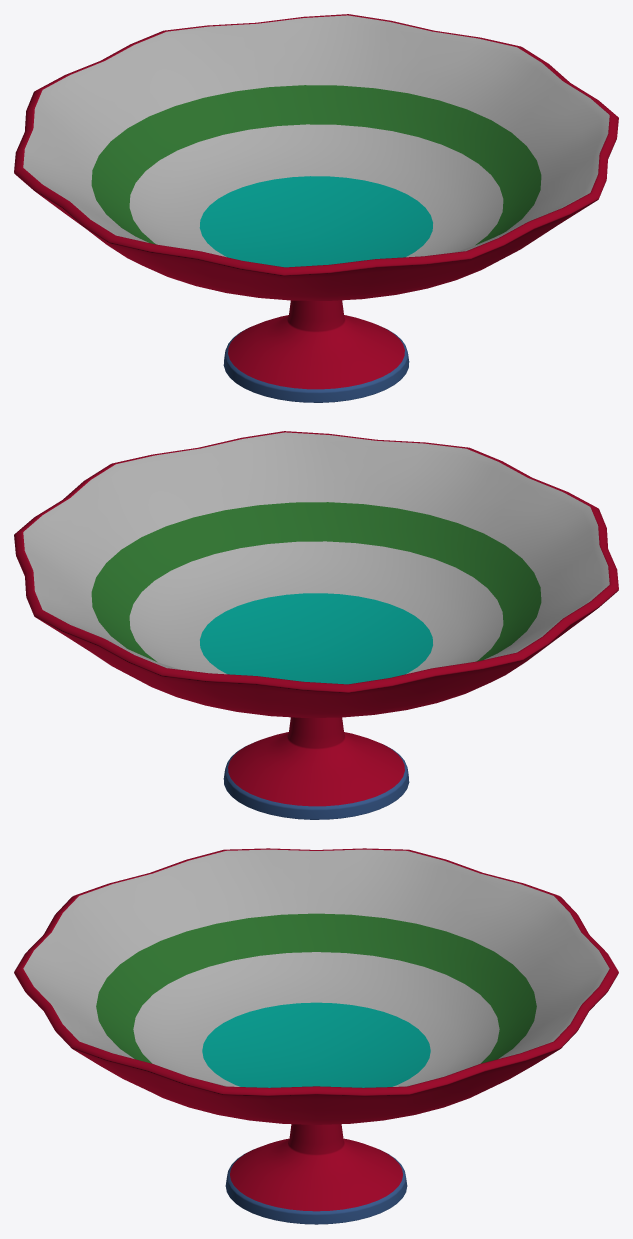
The model's file is Fruttiera.fbx.
3 views of the same model, one above another, from view 1: azimuth 30°, elevation 25°; view 2: azimuth 150°, elevation 25°; view 3: azimuth 270°, elevation 25° (orthographic). The views are drawn at different scales.
Visible parts, largest first — view 1: Fruttiera; view 2: Fruttiera; view 3: Fruttiera.
Boxes of the visible parts, x1,y1,x2,y2 form: Fruttiera: (14, 14, 618, 402); Fruttiera: (14, 431, 618, 819); Fruttiera: (14, 848, 618, 1224).
Size of the model in its own units: 50.55 by 20.88 by 52.6.
